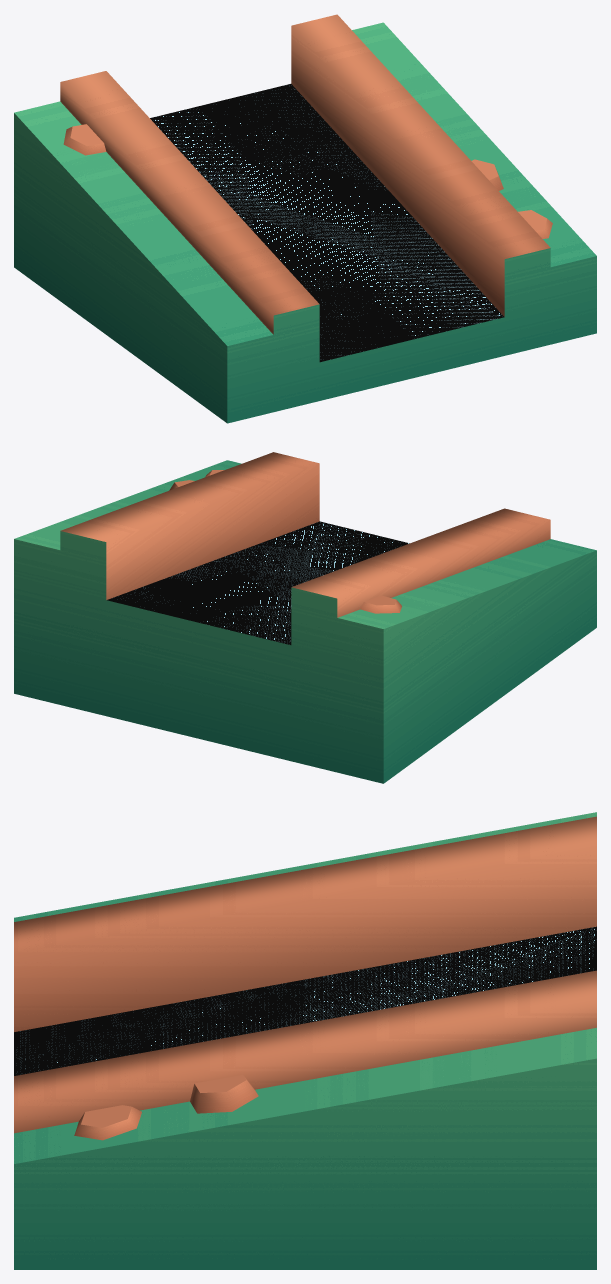
The model's file is tower-defense-kit--tile-river-slope.glb.
The picture shows the model from 3 angles, top to bottom: view 1: azimuth 30°, elevation 25°; view 2: azimuth 150°, elevation 25°; view 3: azimuth 270°, elevation 25°; orthographic projection. The views are drawn at different scales.
Visible parts, largest first — view 1: tile-river-slope; view 2: tile-river-slope; view 3: tile-river-slope.
Boxes of the visible parts, x1,y1,x2,y2 form: tile-river-slope: [14, 14, 596, 423]; tile-river-slope: [14, 452, 596, 783]; tile-river-slope: [14, 812, 596, 1269].
Bounding box in the file's own units: 1 × 0.45 × 1.
1 material, 1 textured.
